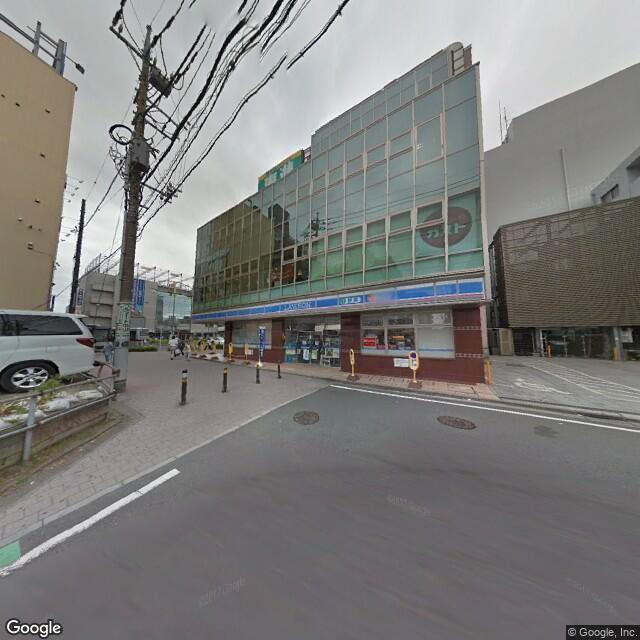lawson: (190, 270, 487, 326)
